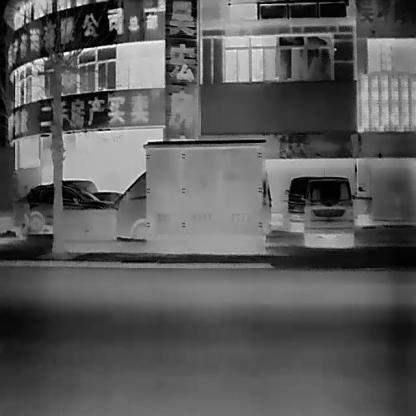car: (12, 182, 115, 233), (303, 175, 355, 248), (284, 177, 305, 233)
